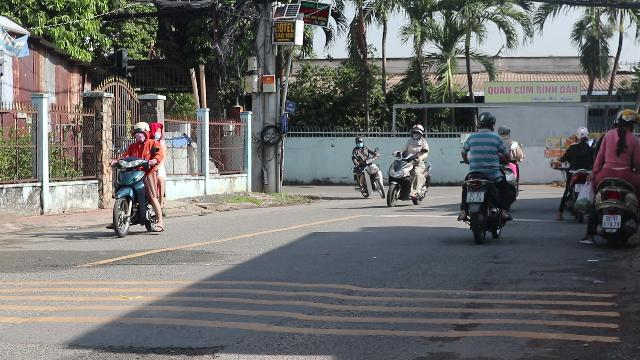helmet: (613, 108, 637, 130), (475, 110, 495, 130), (131, 121, 149, 143)
licenseplate: (602, 215, 620, 227), (467, 192, 483, 202)
motorcyclist: (580, 108, 640, 248), (454, 110, 518, 240), (108, 120, 168, 236)
nohelmet: (148, 121, 164, 141)
